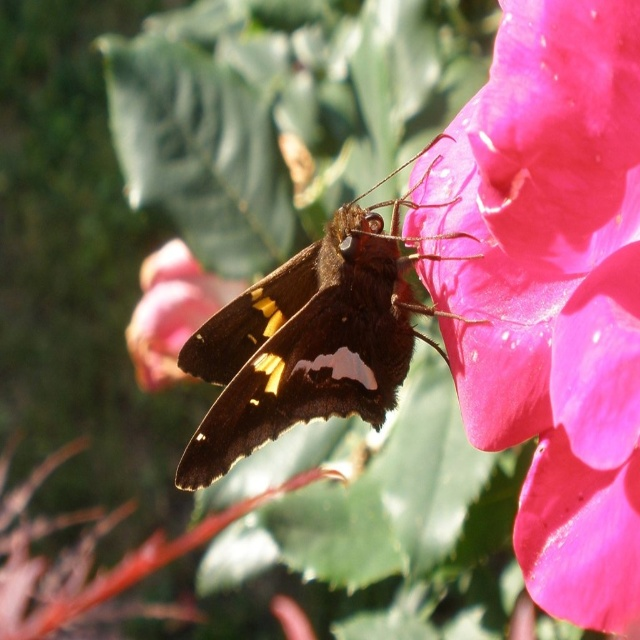Butterfly: (141, 115, 492, 490)
